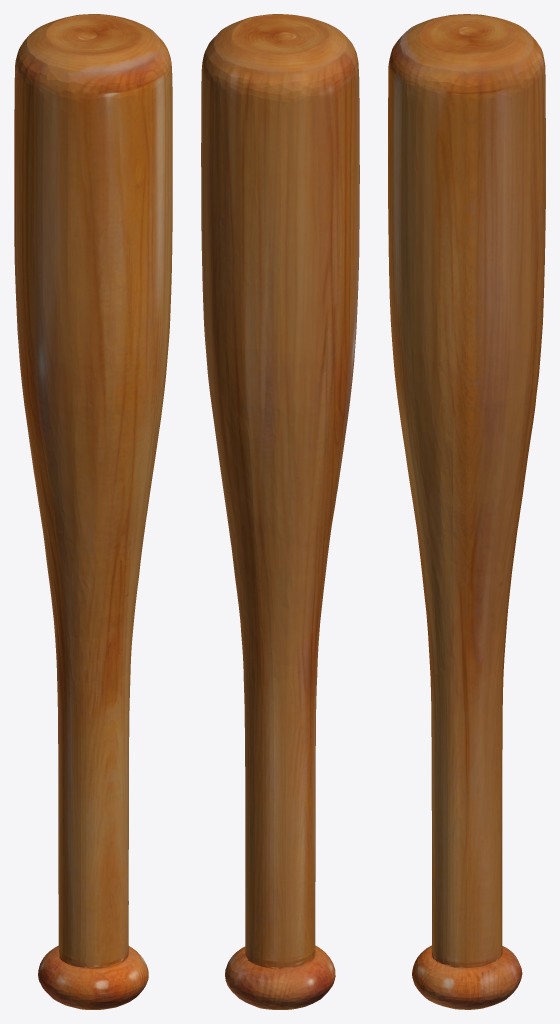
File: Baseball_Bat_0605133746_texture.fbx
The picture shows the model from 3 angles, left to right: view 1: azimuth 30°, elevation 25°; view 2: azimuth 150°, elevation 25°; view 3: azimuth 270°, elevation 25°; orthographic projection.
Visible parts, largest first — view 1: temp; view 2: temp; view 3: temp.
Part boxes in pixels (box(x1,y1,x2,y2)): temp: box(14, 14, 172, 1009); temp: box(201, 14, 359, 1009); temp: box(388, 14, 545, 1009).
Bounding box in the file's own units: 29.76 × 200 × 29.73.
1 material, 1 textured.
